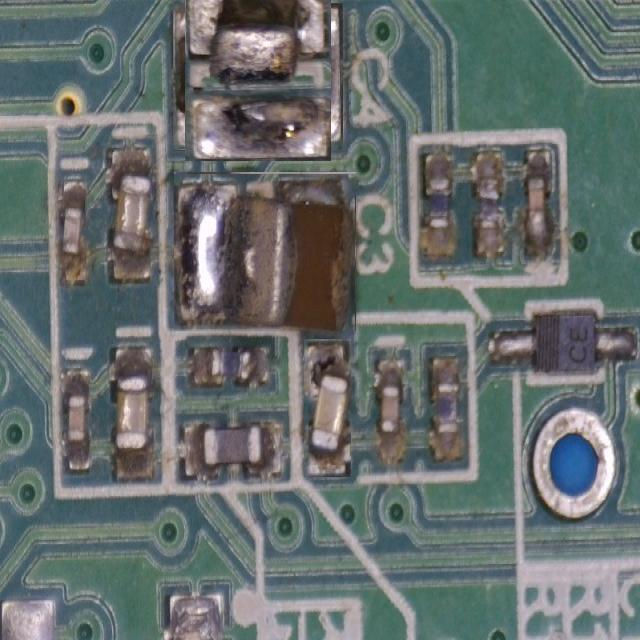Incorrect_installation: (175, 173, 354, 331), (186, 0, 331, 161), (304, 341, 351, 477)
